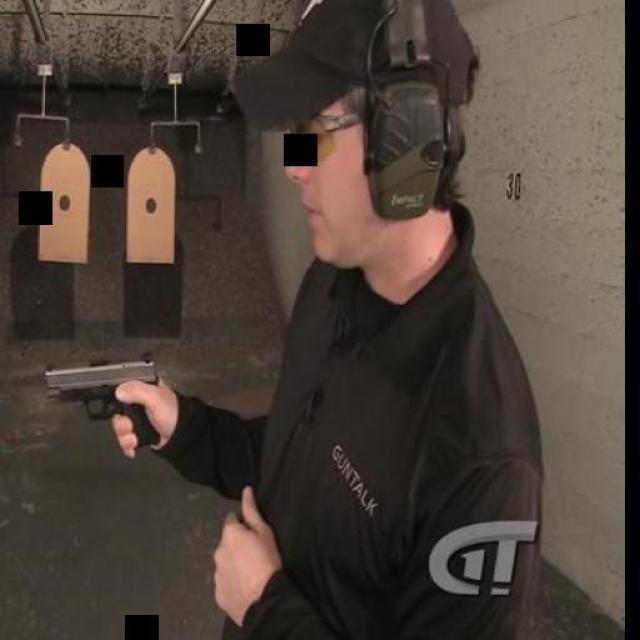gun: (38, 352, 164, 452)
